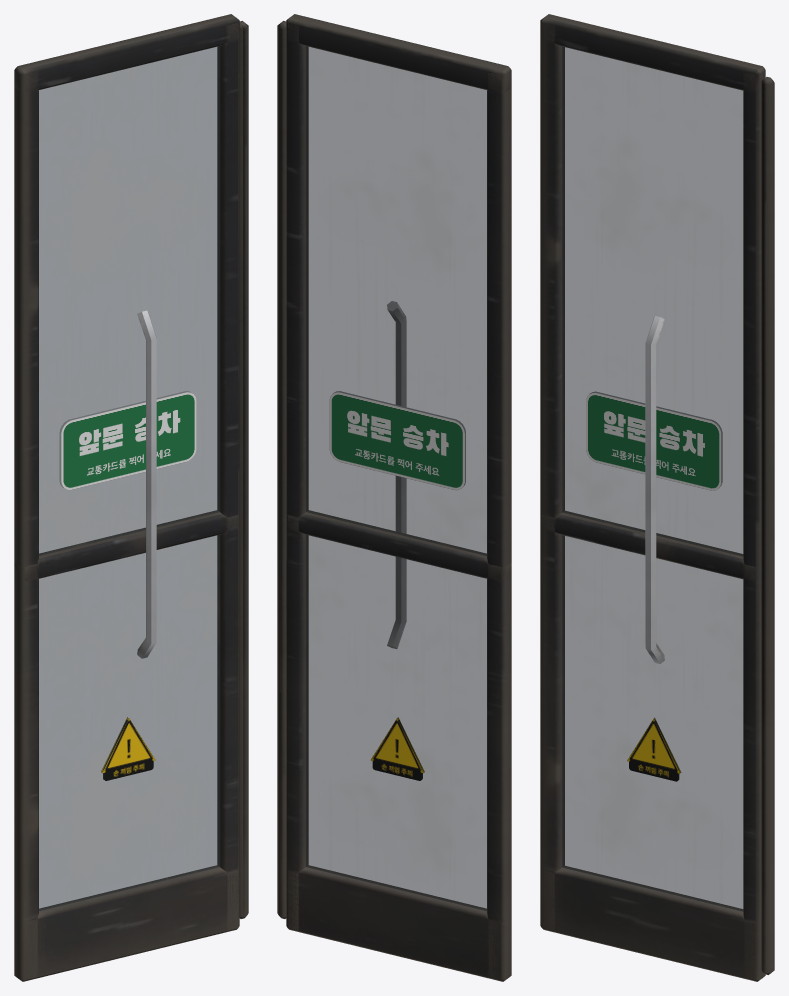
File: PH_Bus__DoorB.fbx
3 views of the same model, side by side, from view 1: azimuth 30°, elevation 25°; view 2: azimuth 150°, elevation 25°; view 3: azimuth 330°, elevation 25° (orthographic).
Visible parts, largest first — view 1: PH_Bus__DoorB; view 2: PH_Bus__DoorB; view 3: PH_Bus__DoorB.
Part boxes in pixels (x1,y1,x2,y2): PH_Bus__DoorB: (14,14,248,981); PH_Bus__DoorB: (277,14,511,981); PH_Bus__DoorB: (540,14,774,981).
Bounding box in the file's own units: 0.601 × 2.27 × 0.0914.
